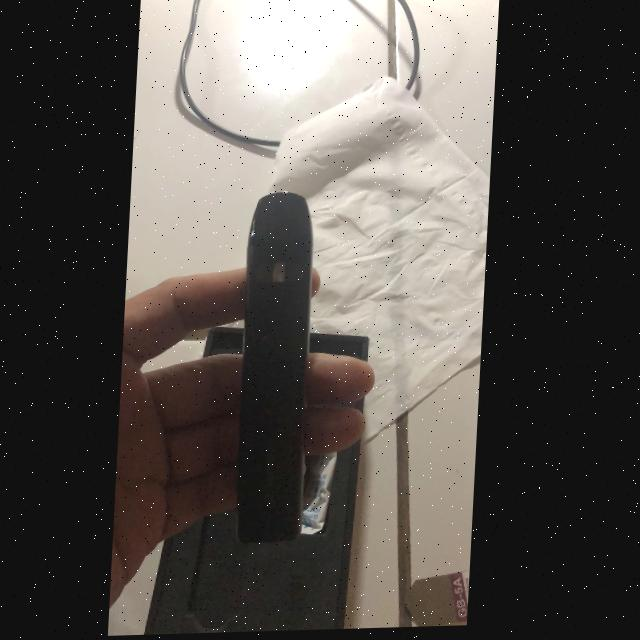vape: (234, 193, 323, 556)
